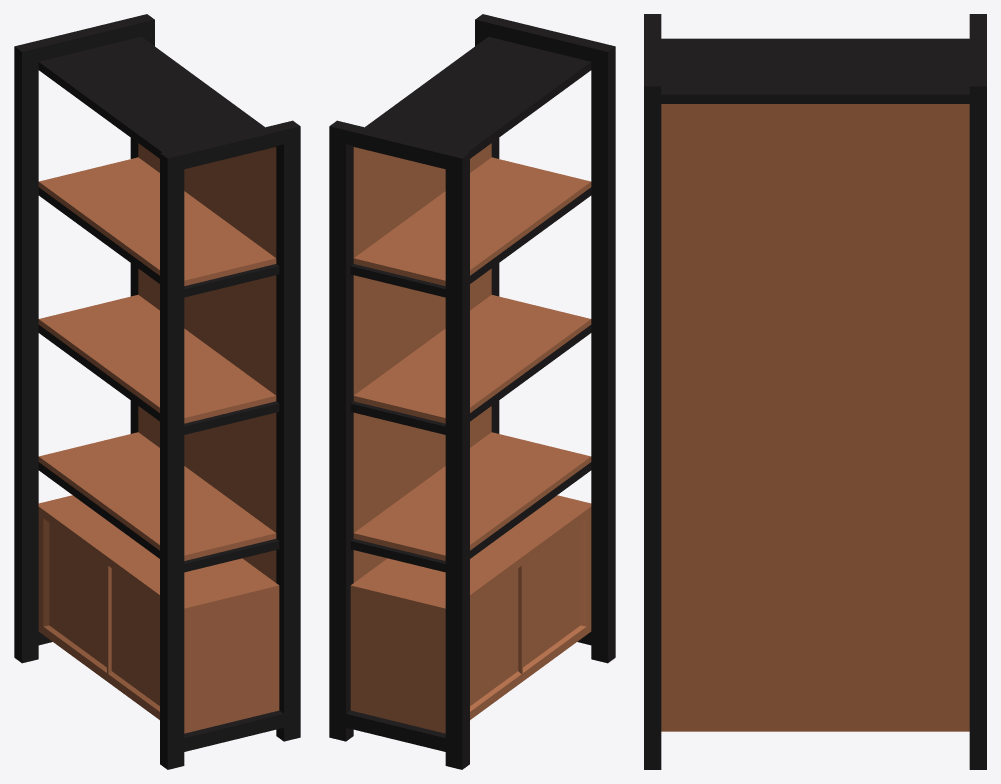
Rendered from SM_Middle_Shelf_01.fbx.
The picture shows the model from 3 angles, left to right: view 1: azimuth 30°, elevation 25°; view 2: azimuth 150°, elevation 25°; view 3: azimuth 270°, elevation 25°; orthographic projection. The views are drawn at different scales.
Parts seen in each view (by area): view 1: polySurface5; view 2: polySurface5; view 3: polySurface5.
Boxes of the visible parts, x1,y1,x2,y2 form: polySurface5: [14, 14, 300, 769]; polySurface5: [329, 14, 615, 769]; polySurface5: [644, 14, 986, 769].
Size of the model in its own units: 50 by 220 by 100.
